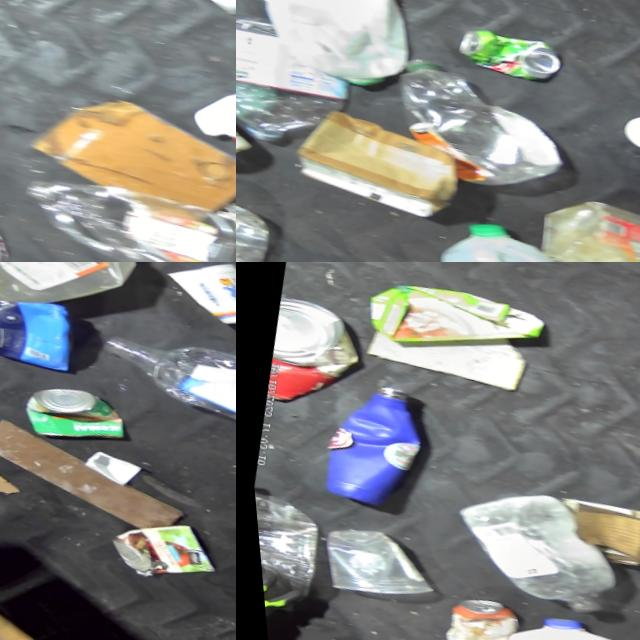can: (255, 292, 364, 417), (89, 505, 213, 594), (2, 373, 135, 455), (444, 22, 565, 91), (429, 590, 517, 640)
milk_jug: (236, 0, 423, 93), (407, 207, 628, 262), (472, 600, 640, 640)
non_white_jug: (0, 262, 138, 327), (0, 268, 80, 372)
plastic_bottle: (378, 54, 559, 191), (0, 166, 235, 262), (74, 323, 236, 438), (249, 482, 324, 590)
